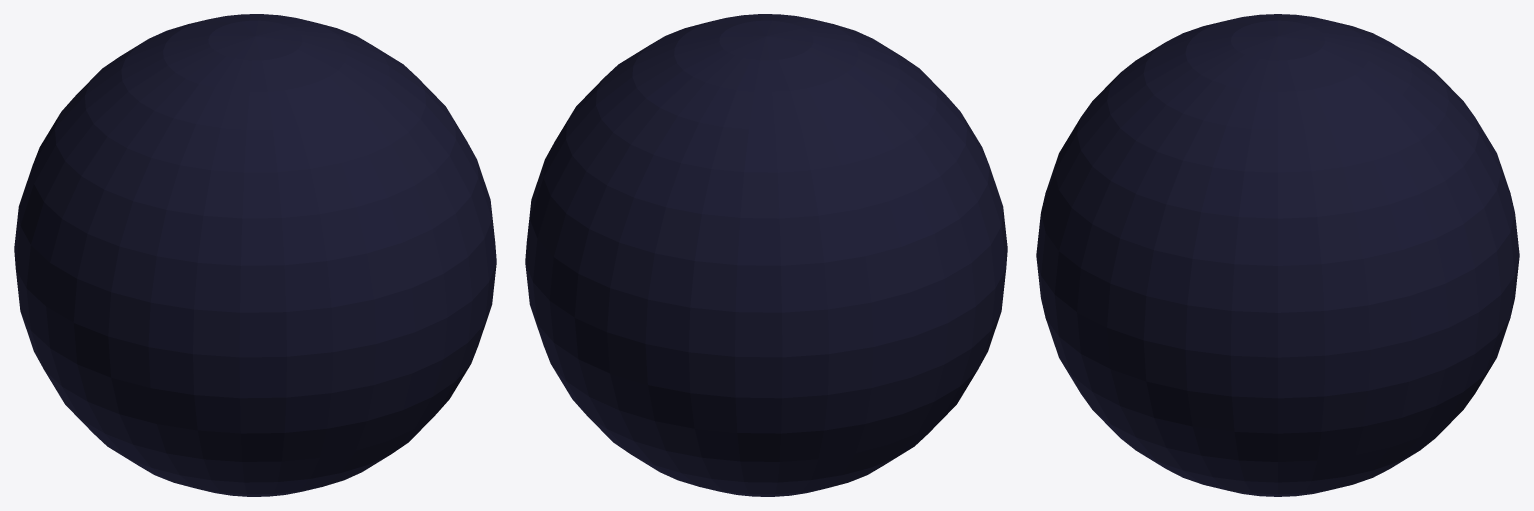
File: glass.obj
The picture shows the model from 3 angles, left to right: view 1: azimuth 30°, elevation 25°; view 2: azimuth 150°, elevation 25°; view 3: azimuth 270°, elevation 25°; orthographic projection.
Visible parts, largest first — view 1: Sphere_Glass; view 2: Sphere_Glass; view 3: Sphere_Glass.
Boxes of the visible parts, x1,y1,x2,y2 form: Sphere_Glass: (14, 14, 496, 496); Sphere_Glass: (525, 14, 1007, 496); Sphere_Glass: (1036, 14, 1519, 496).
Bounding box in the file's own units: 2 × 2 × 2.
